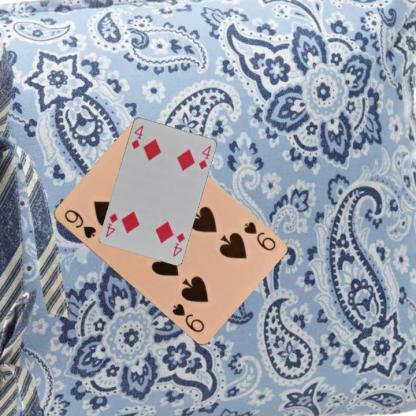4d: (128, 122, 144, 150), (170, 230, 186, 258)
9s: (240, 218, 277, 252), (61, 206, 97, 240)
